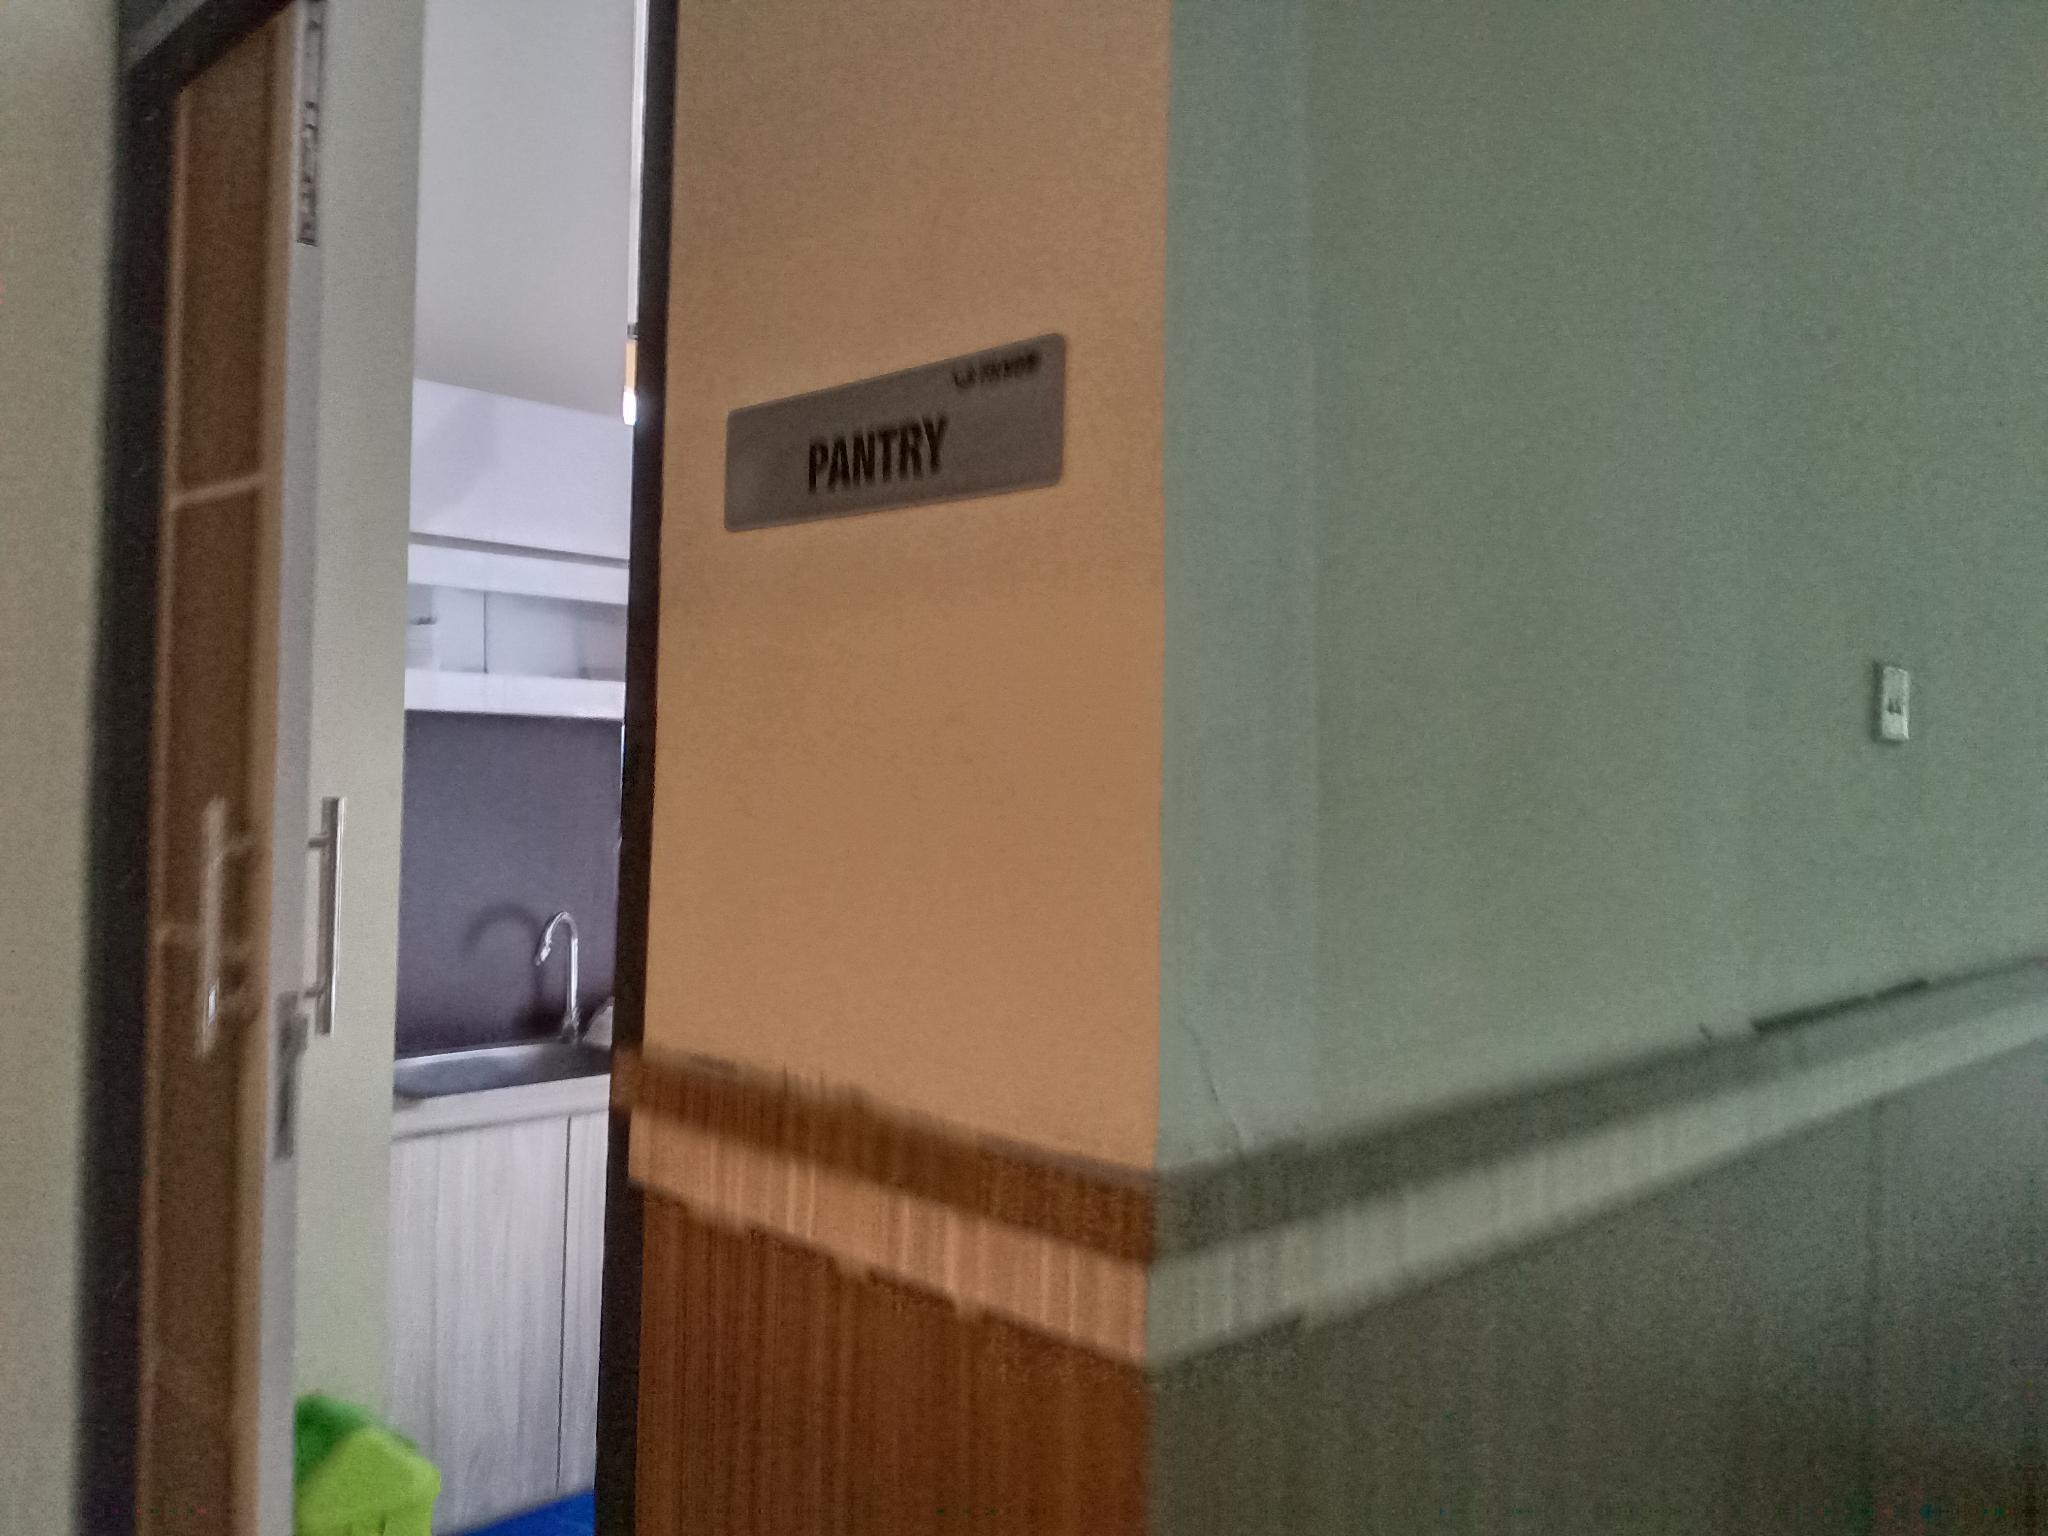plate: (726, 331, 1068, 536)
